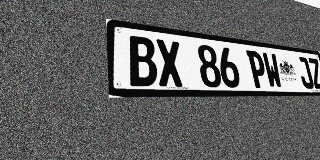6: (216, 46, 241, 88)
8: (196, 44, 222, 87)
B: (127, 35, 158, 86)
J: (296, 56, 315, 89)
P: (246, 50, 269, 88)
W: (262, 52, 283, 88)
X: (155, 39, 184, 87)
Z: (307, 58, 320, 89)
